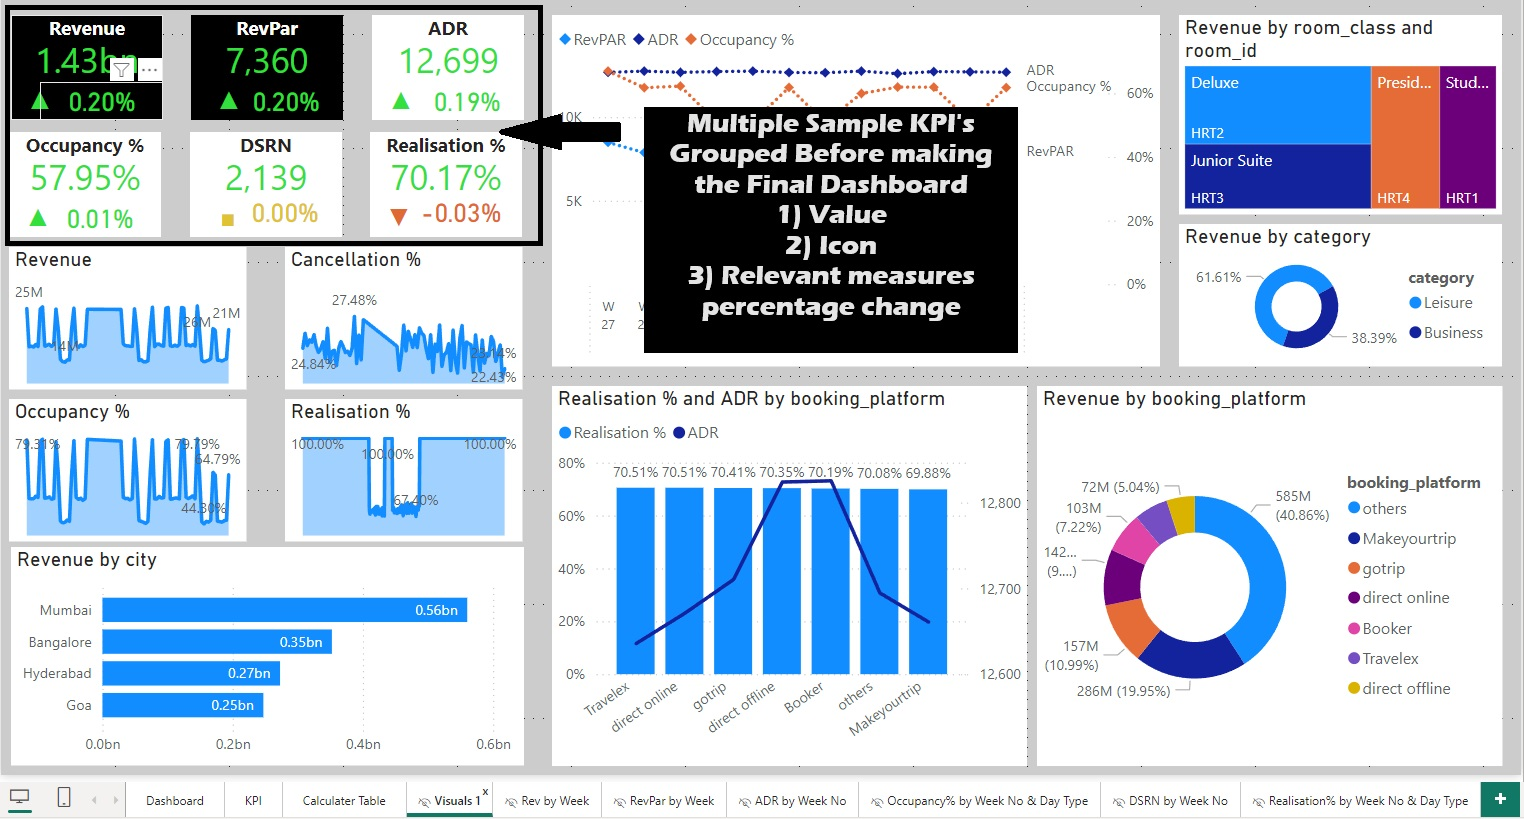

The page's visual inventory and layout, read from the dashboard file:
{"tool":"powerbi","page":{"name":"Visuals 1","canvas":[1280,720],"ordinal":3},"visuals":[{"type":"card","title":"Revenue","fields":{"Values":["Key_Performance.Revenue"]},"box":[8,80,128,56],"z":0,"group":"g1"},{"type":"card","title":"RevPar","fields":{"Values":["Key_Performance.RevPAR"]},"box":[160,80,128,56],"z":0,"group":"g2"},{"type":"card","title":"ADR","fields":{"Values":["Key_Performance.ADR"]},"box":[312,80,128,56],"z":0,"group":"g3"},{"type":"card","title":"Occupancy %","fields":{"Values":["KPI%.Occupancy %"]},"box":[7.1,178.7,128,56],"z":0,"group":"g6"},{"type":"card","title":"DSRN","fields":{"Values":["Key_Performance.DSRN"]},"box":[159.1,178.7,128,56],"z":0,"group":"g4"},{"type":"card","title":"Realisation %","fields":{"Values":["KPI%.Realisation %"]},"box":[311.1,178.7,128,56],"z":0,"group":"g5"},{"type":"group","id":"g1","title":"Group 2","box":[8,80,128,88],"z":1000},{"type":"card","title":"Revenue","fields":{"Values":["KPI_Icons.Revenue_WoW_Icon"]},"box":[16,136,32,32],"z":1000,"group":"g1"},{"type":"card","title":"Revenue","fields":{"Values":["KPI_Icons.Revpar_WoW_Icon"]},"box":[176,136,32,32],"z":1000,"group":"g2"},{"type":"card","title":"Revenue","fields":{"Values":["KPI_Icons.ADR_WoW_Icon"]},"box":[320,136,32,32],"z":1000,"group":"g3"},{"type":"card","title":"Revenue","fields":{"Values":["KPI_Icons.Occupancy%_WoW_Icon"]},"box":[15.1,234.7,32,32],"z":1000,"group":"g6"},{"type":"card","title":"Revenue","fields":{"Values":["KPI_Icons.DSRN_WoW_Icon"]},"box":[175.1,234.7,32,32],"z":1000,"group":"g4"},{"type":"card","title":"Revenue","fields":{"Values":["KPI_Icons.Realisation_WoW_Icon"]},"box":[319.1,234.7,32,32],"z":1000,"group":"g5"},{"type":"group","id":"g2","title":"Group 1","box":[160,80,128,88],"z":2000},{"type":"card","fields":{"Values":["KPI%.Revenue WoW change %"]},"box":[32,136,104,32],"z":2000,"group":"g1"},{"type":"card","fields":{"Values":["KPI%.Revpar WoW change %"]},"box":[192,136,96,32],"z":2000,"group":"g2"},{"type":"card","fields":{"Values":["KPI%.ADR WoW change %"]},"box":[344,136,96,32],"z":2000,"group":"g3"},{"type":"card","fields":{"Values":["KPI%.DSRN WoW change %"]},"box":[191.1,226.7,96,40],"z":2000,"group":"g4"},{"type":"card","fields":{"Values":["KPI%.Realisation WoW change %"]},"box":[335.1,226.7,104,40],"z":2000,"group":"g5"},{"type":"card","fields":{"Values":["KPI%.Occupancy WoW change %"]},"box":[31.1,234.7,104,32],"z":2000,"group":"g6"},{"type":"group","id":"g3","title":"Group 3","box":[312,80,128,88],"z":3000},{"type":"group","id":"g4","title":"Group 3","box":[159.1,178.7,128,88],"z":4000},{"type":"group","id":"g5","title":"Group 3","box":[311.1,178.7,128,88],"z":5000},{"type":"group","id":"g6","title":"Group 2","box":[7.1,178.7,128,88],"z":6000},{"type":"areaChart","title":"Revenue ","fields":{"Y":["Key_Performance.Revenue"],"Category":["dim_date.date.Variation.Date Hierarchy.Year","dim_date.date.Variation.Date Hierarchy.Quarter","dim_date.date.Variation.Date Hierarchy.Month","dim_date.date.Variation.Date Hierarchy.Day"]},"box":[7.1,275.6,200,120],"z":7000},{"type":"areaChart","title":"Cancellation %","fields":{"Y":["KPI%.Cancellation %"],"Category":["dim_date.date.Variation.Date Hierarchy.Year","dim_date.date.Variation.Date Hierarchy.Quarter","dim_date.date.Variation.Date Hierarchy.Month","dim_date.date.Variation.Date Hierarchy.Day"]},"box":[239.1,275.6,200,120],"z":8000},{"type":"areaChart","title":"Occupancy %","fields":{"Y":["KPI%.Occupancy %"],"Category":["dim_date.date.Variation.Date Hierarchy.Year","dim_date.date.Variation.Date Hierarchy.Quarter","dim_date.date.Variation.Date Hierarchy.Month","dim_date.date.Variation.Date Hierarchy.Day"]},"box":[7.1,403.6,200,120],"z":9000},{"type":"areaChart","title":"Realisation %","fields":{"Y":["KPI%.Realisation %"],"Category":["dim_date.date.Variation.Date Hierarchy.Year","dim_date.date.Variation.Date Hierarchy.Quarter","dim_date.date.Variation.Date Hierarchy.Month","dim_date.date.Variation.Date Hierarchy.Day"]},"box":[239.1,403.6,200,120],"z":10000},{"type":"lineChart","fields":{"Category":["dim_date.mmm yy","dim_date.week no"],"Y":["Key_Performance.RevPAR","Key_Performance.ADR"],"Y2":["KPI%.Occupancy %"]},"box":[464,80,512,296],"z":11000},{"type":"donutChart","fields":{"Y":["Key_Performance.Revenue"],"Category":["dim_hotels.category"]},"box":[992,256,272,120],"z":12000},{"type":"treemap","fields":{"Group":["dim_rooms.room_class"],"Values":["Key_Performance.Revenue"],"Details":["dim_rooms.room_id"]},"box":[992,80,272,168],"z":13000},{"type":"barChart","fields":{"Y":["Key_Performance.Revenue"],"Category":["dim_hotels.city"]},"box":[8,528,432,184],"z":14000},{"type":"lineStackedColumnComboChart","fields":{"Category":["fact_bookings.booking_platform"],"Y":["KPI%.Realisation %"],"Y2":["Key_Performance.ADR"]},"box":[464,392,400,320],"z":15000},{"type":"donutChart","fields":{"Category":["fact_bookings.booking_platform"],"Y":["Key_Performance.Revenue"]},"box":[872,392,392,320],"z":16000}]}

Visuals, with their boxes on the page's 1280x720 design canvas (x1, y1, x2, y2). These are canvas units, not pixel positions in the 1524x819 screenshot, which may show the page scaled, cropped or inside an application window:
"Revenue" card: <region>8, 80, 136, 136</region>
"RevPar" card: <region>160, 80, 288, 136</region>
"ADR" card: <region>312, 80, 440, 136</region>
"Occupancy %" card: <region>7, 179, 135, 235</region>
"DSRN" card: <region>159, 179, 287, 235</region>
"Realisation %" card: <region>311, 179, 439, 235</region>
"Group 2" group: <region>8, 80, 136, 168</region>
"Revenue" card: <region>16, 136, 48, 168</region>
"Revenue" card: <region>176, 136, 208, 168</region>
"Revenue" card: <region>320, 136, 352, 168</region>
"Revenue" card: <region>15, 235, 47, 267</region>
"Revenue" card: <region>175, 235, 207, 267</region>
"Revenue" card: <region>319, 235, 351, 267</region>
"Group 1" group: <region>160, 80, 288, 168</region>
card - KPI%.Revenue WoW change %: <region>32, 136, 136, 168</region>
card - KPI%.Revpar WoW change %: <region>192, 136, 288, 168</region>
card - KPI%.ADR WoW change %: <region>344, 136, 440, 168</region>
card - KPI%.DSRN WoW change %: <region>191, 227, 287, 267</region>
card - KPI%.Realisation WoW change %: <region>335, 227, 439, 267</region>
card - KPI%.Occupancy WoW change %: <region>31, 235, 135, 267</region>
"Group 3" group: <region>312, 80, 440, 168</region>
"Group 3" group: <region>159, 179, 287, 267</region>
"Group 3" group: <region>311, 179, 439, 267</region>
"Group 2" group: <region>7, 179, 135, 267</region>
"Revenue " areaChart: <region>7, 276, 207, 396</region>
"Cancellation %" areaChart: <region>239, 276, 439, 396</region>
"Occupancy %" areaChart: <region>7, 404, 207, 524</region>
"Realisation %" areaChart: <region>239, 404, 439, 524</region>
lineChart - dim_date.mmm yy x dim_date.week no: <region>464, 80, 976, 376</region>
donutChart - Key_Performance.Revenue x dim_hotels.category: <region>992, 256, 1264, 376</region>
treemap - dim_rooms.room_class x Key_Performance.Revenue: <region>992, 80, 1264, 248</region>
barChart - Key_Performance.Revenue x dim_hotels.city: <region>8, 528, 440, 712</region>
lineStackedColumnComboChart - fact_bookings.booking_platform x KPI%.Realisation %: <region>464, 392, 864, 712</region>
donutChart - fact_bookings.booking_platform x Key_Performance.Revenue: <region>872, 392, 1264, 712</region>
